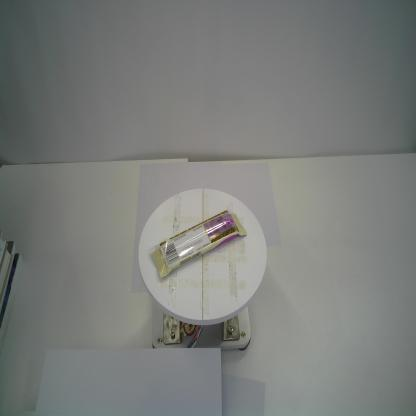Chocolate: (149, 211, 247, 279)
